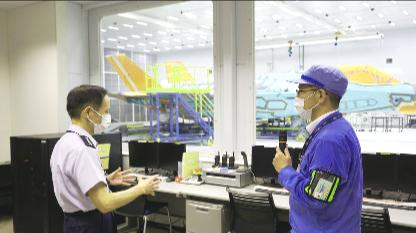F22: (104, 52, 414, 139)
